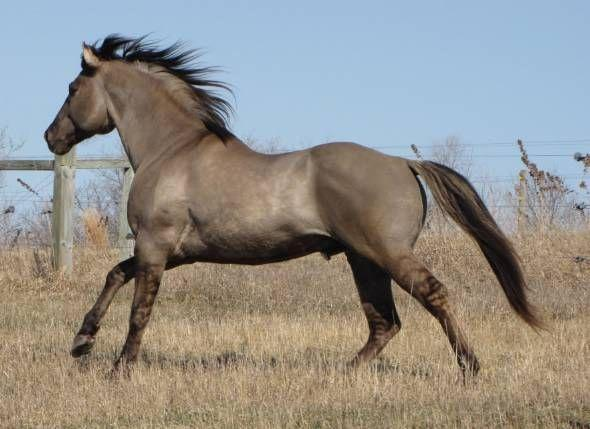horse: (43, 31, 551, 387)
